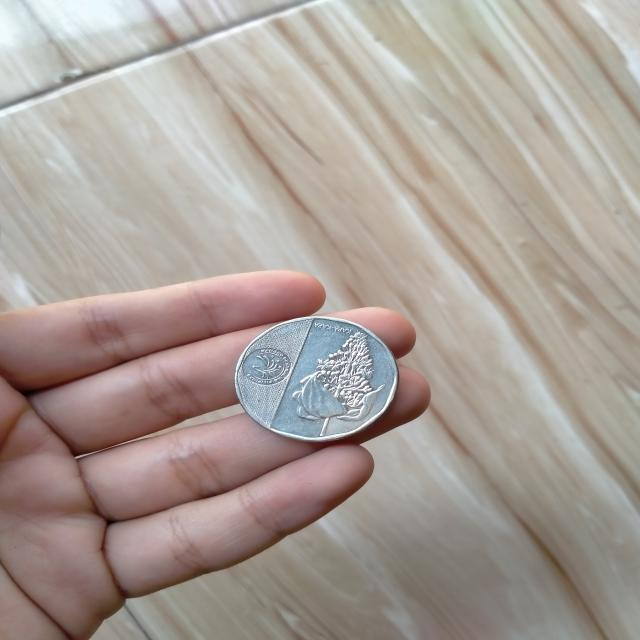10_New_Back: (287, 314, 397, 444)
